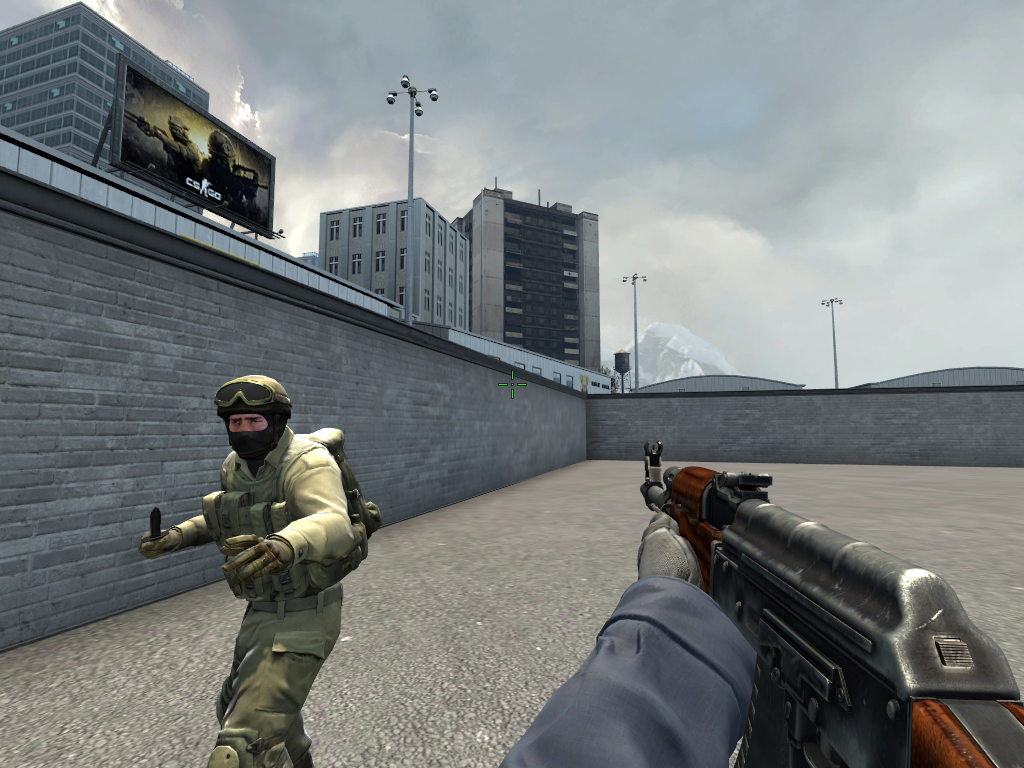ct head: (230, 382, 280, 454)
